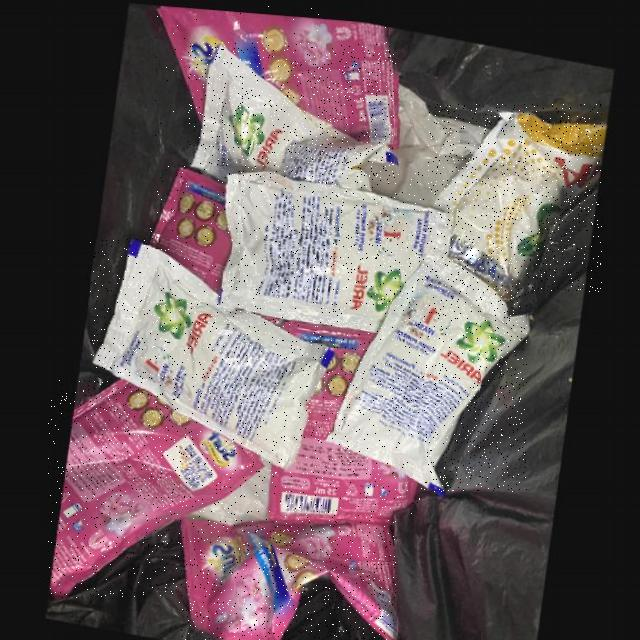wrapper: (91, 239, 332, 464), (324, 244, 527, 491), (49, 379, 263, 598), (217, 169, 448, 327), (152, 4, 396, 143), (429, 104, 603, 293), (263, 311, 420, 519), (189, 42, 394, 186), (180, 516, 396, 640), (149, 165, 229, 292)
